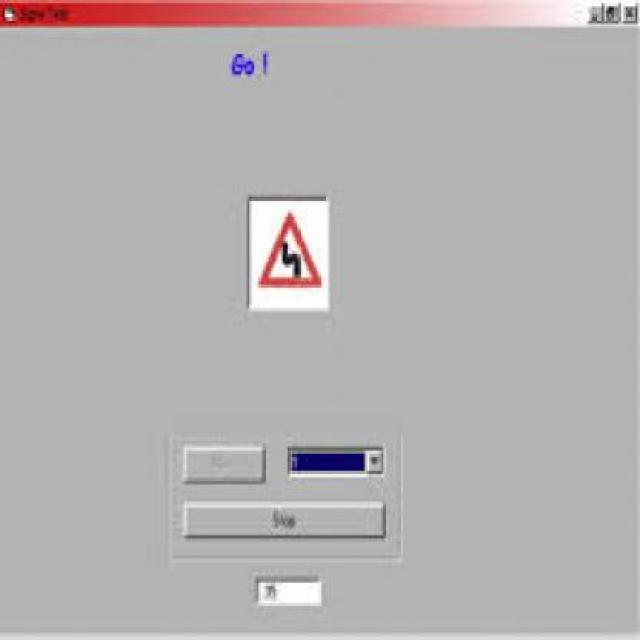warn_double_curve: (254, 207, 322, 295)
